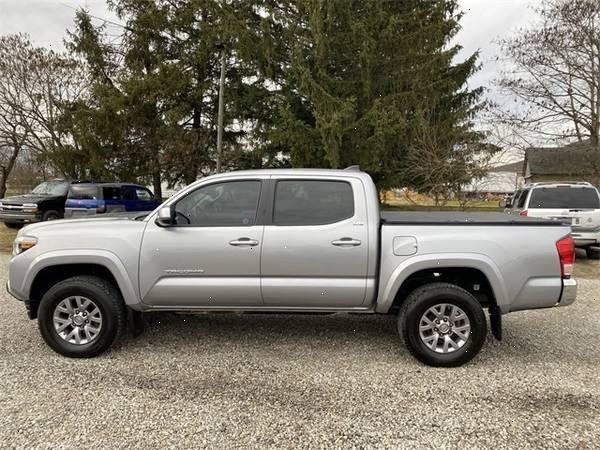Front_Bumper: (5, 251, 38, 308)
Front_Fender: (18, 223, 144, 310)
Front_Left_Door: (138, 226, 264, 309)
Front_Left_Window: (159, 179, 274, 229)
Left_Headlight: (8, 235, 37, 262)
Left_Taillight: (555, 234, 576, 282)
Rear_Bumper: (556, 277, 579, 311)
Rear_Fender: (377, 223, 568, 313)
Rear_Left_Door: (260, 225, 378, 313)
Rear_Left_Window: (272, 178, 358, 227)
Roof: (150, 167, 383, 223)
Wheel: (399, 280, 488, 367), (39, 277, 125, 361)
